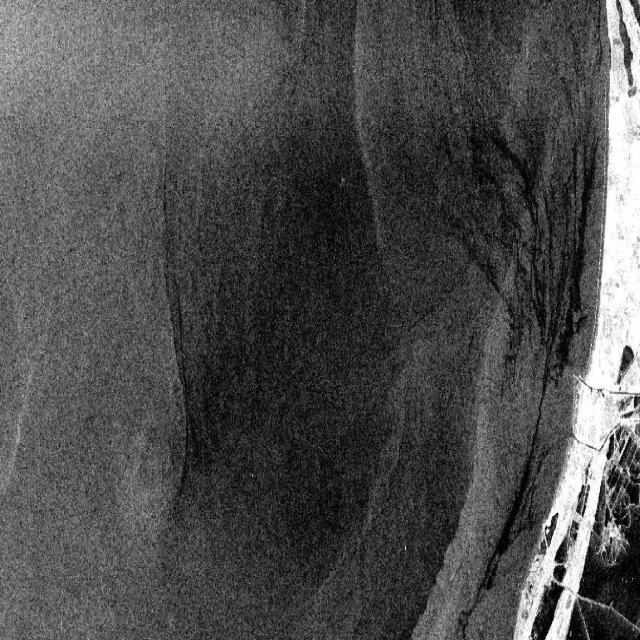look-alike: (196, 145, 398, 572), (449, 115, 590, 350), (470, 379, 551, 630)
